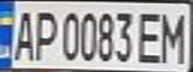0: (57, 7, 81, 62), (78, 7, 100, 62)
3: (112, 8, 139, 63)
8: (97, 8, 118, 63)
A: (9, 6, 36, 62)
E: (136, 7, 166, 64)
M: (157, 7, 190, 65)
P: (30, 6, 57, 62)
